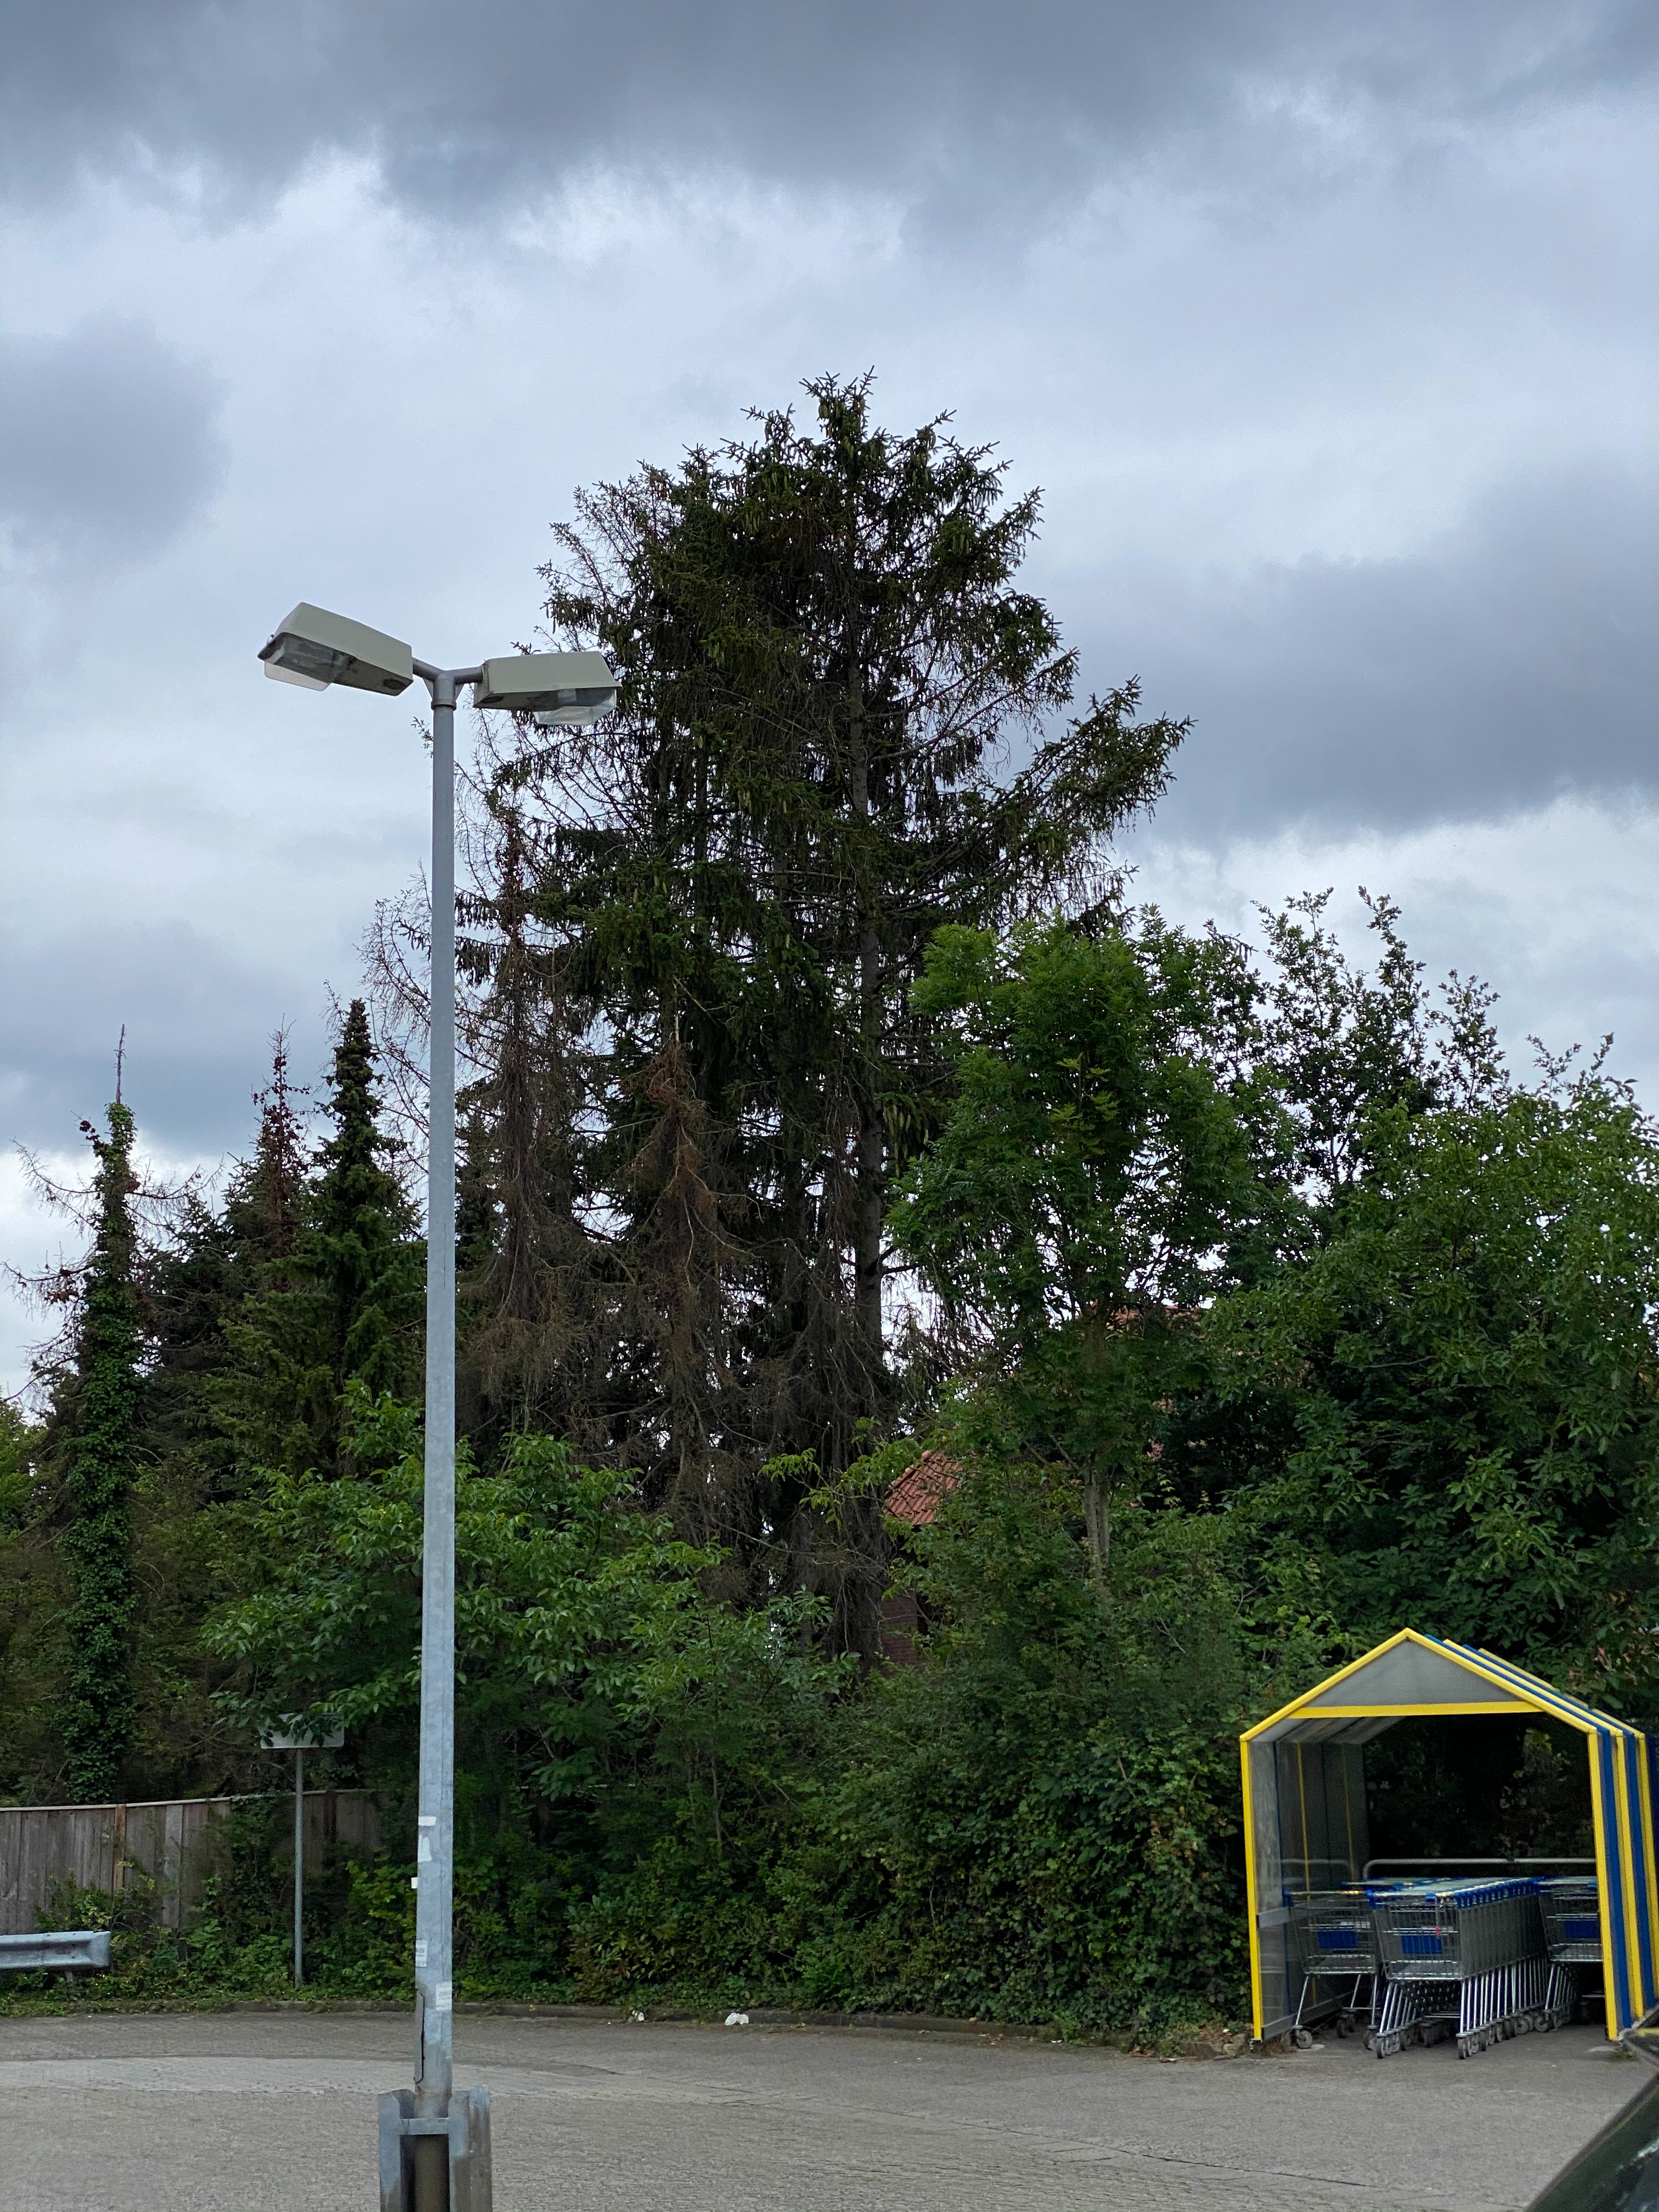tree: (495, 368, 1197, 1630), (1122, 885, 1614, 1521), (1180, 1096, 1659, 1714), (875, 920, 1295, 1615), (213, 1000, 437, 1792), (44, 1024, 173, 1806), (458, 806, 610, 1458), (737, 1073, 885, 1658), (612, 1012, 737, 1592), (242, 1015, 307, 1292), (455, 1111, 497, 1331), (0, 1400, 51, 1554)
